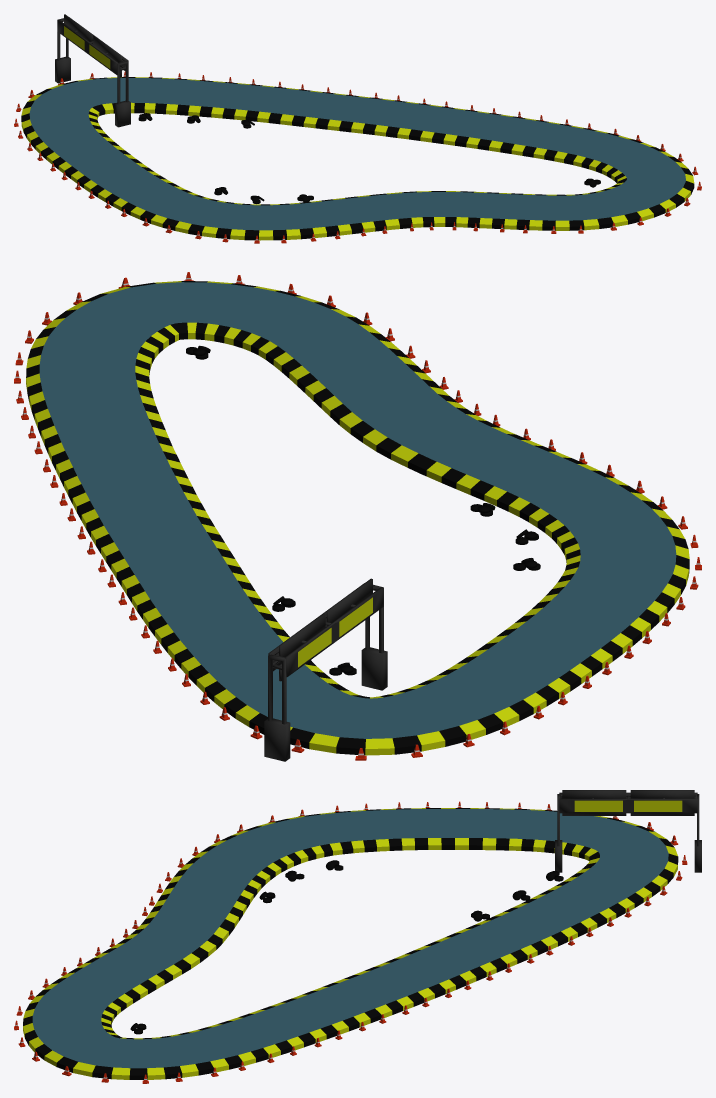
Rendered from Track_02.obj.
3 renders of one model, top to bottom at view 1: azimuth 30°, elevation 25°; view 2: azimuth 150°, elevation 25°; view 3: azimuth 270°, elevation 25°, orthographic. The views are drawn at different scales.
Parts seen in each view (by area): view 1: Plane.007; view 2: Plane.007; view 3: Plane.007.
Part boxes in pixels (<box>): Plane.007: <box>14,14,701,243</box>; Plane.007: <box>14,272,701,761</box>; Plane.007: <box>14,790,701,1083</box>.
Size of the model in its own units: 6.46 by 0.8608 by 6.83.
